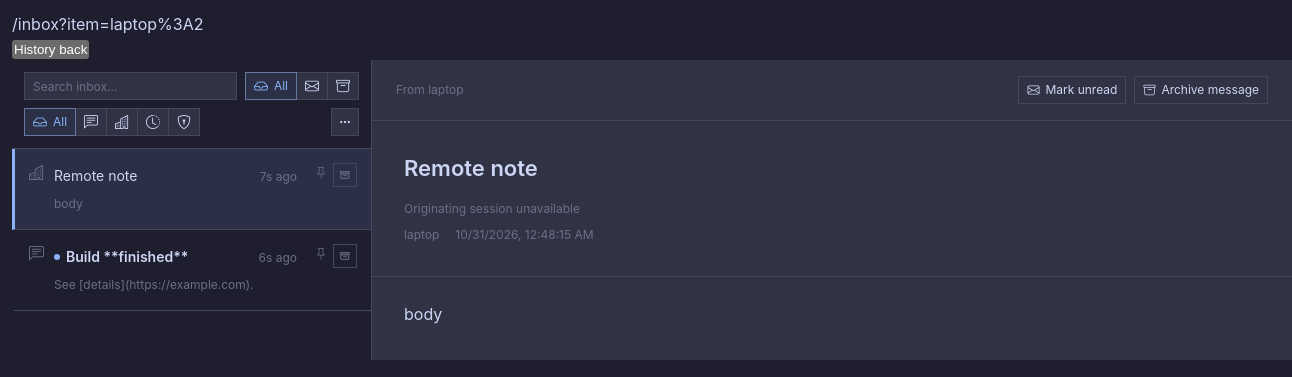
Scenario: Inbox › disables archive all read when no shown item is read
expect the button "Remote note 7s ago body" is shown: met, box [44,149,311,229]
Click the radio button named "Primary" at [91, 122], box [75,108,107,136]
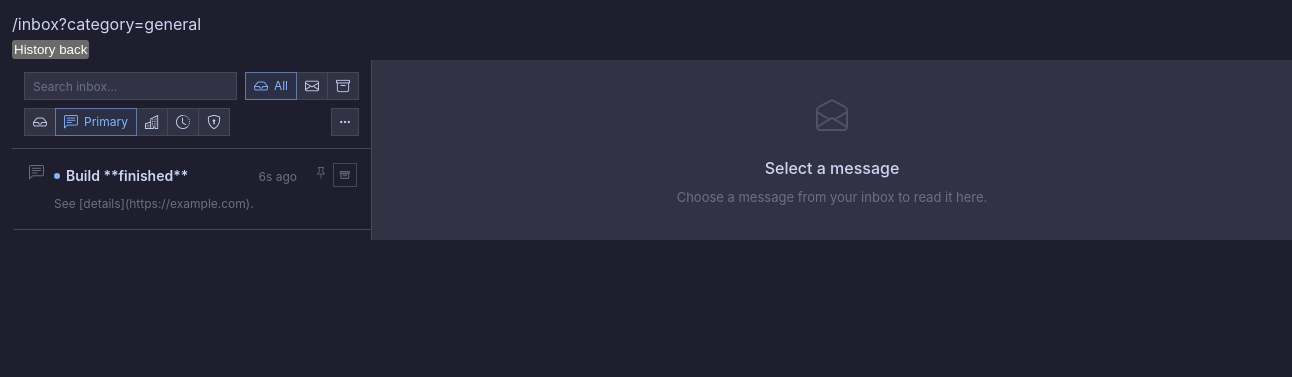
Click the heading named "Inbox actions" at [345, 122], box [331,108,359,136]
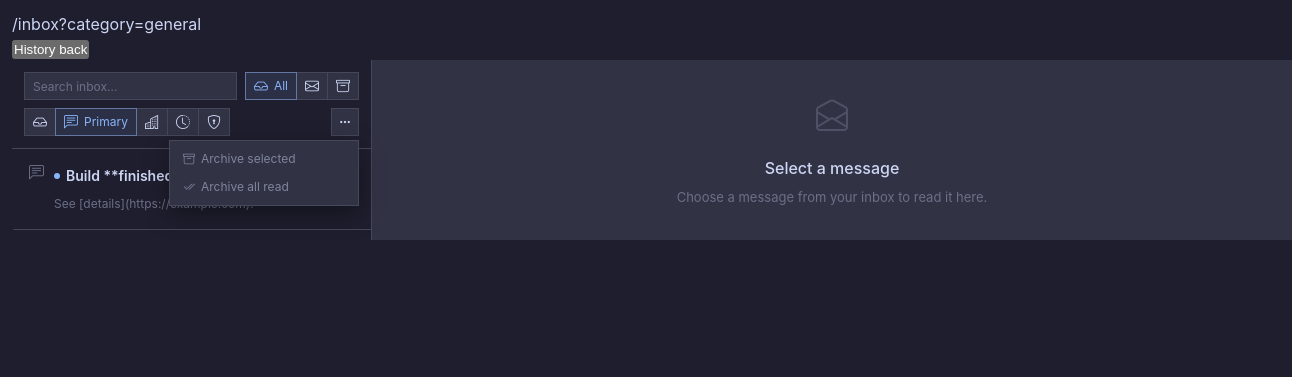
expect the button "Archive all read" is disabled: met, box [174,173,354,201]
